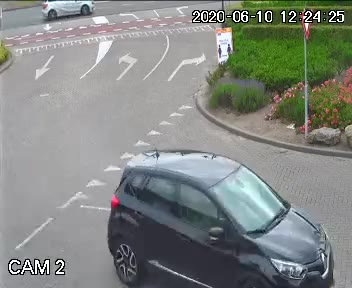car: (76, 147, 321, 288), (37, 0, 97, 22)
